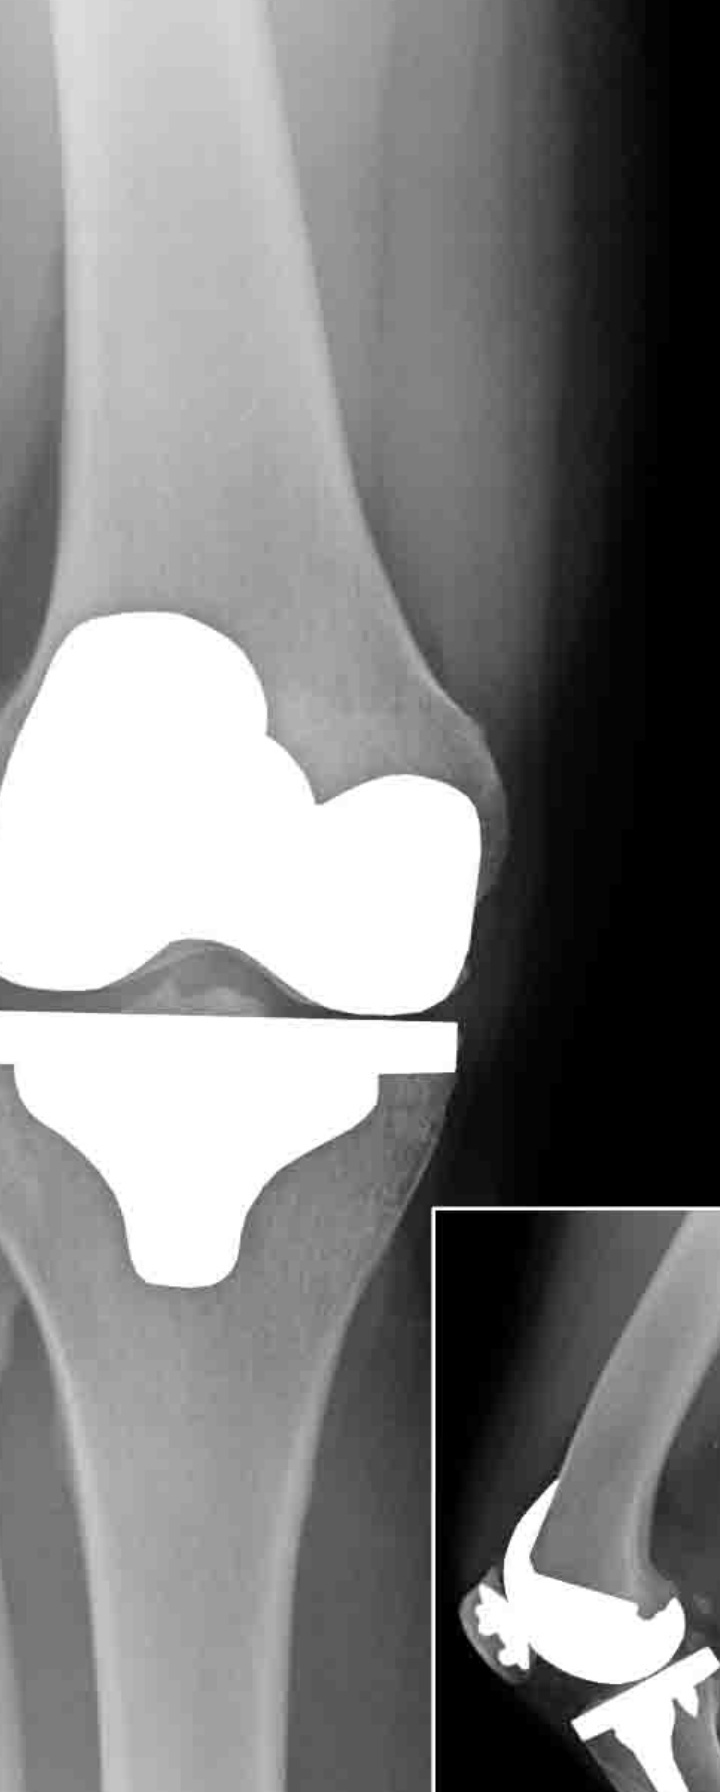Knee-TriathlonTritanium-Stryker: (1, 601, 517, 1311), (470, 1464, 720, 1790)
